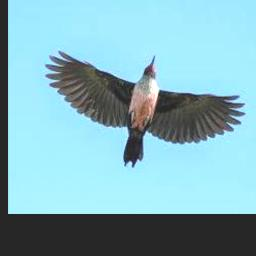Woodpecker: (45, 51, 245, 167)
